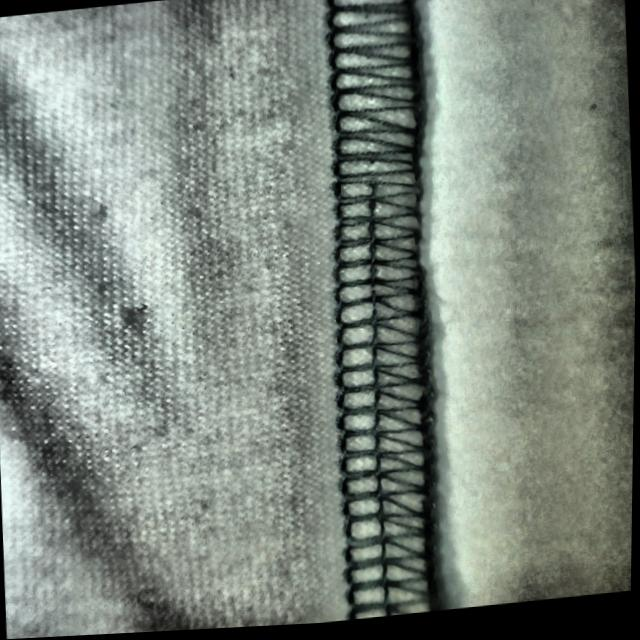Stitch: (313, 0, 441, 389)
